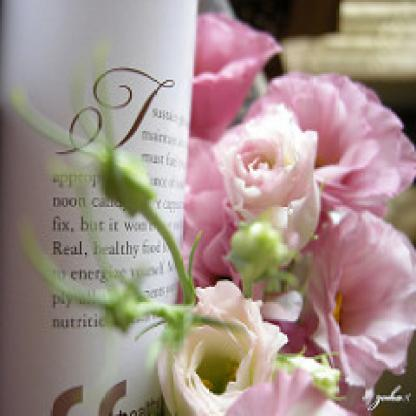ROSE-MAWAR: (161, 7, 407, 415)
